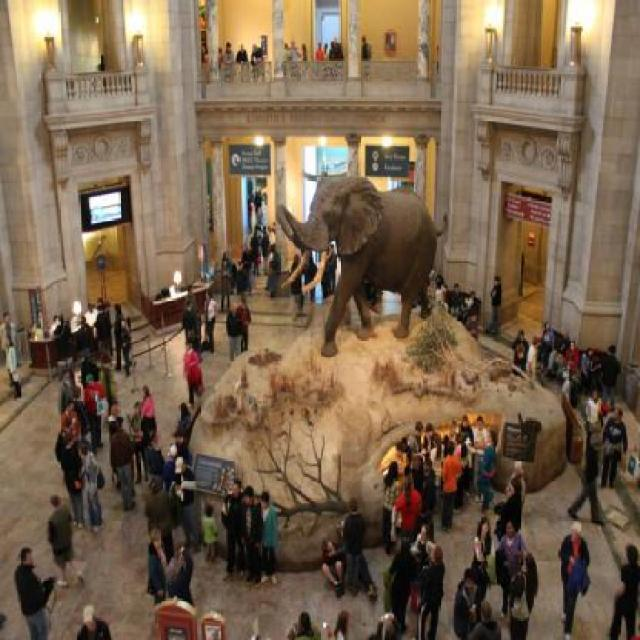Elephant: (282, 168, 443, 350)
